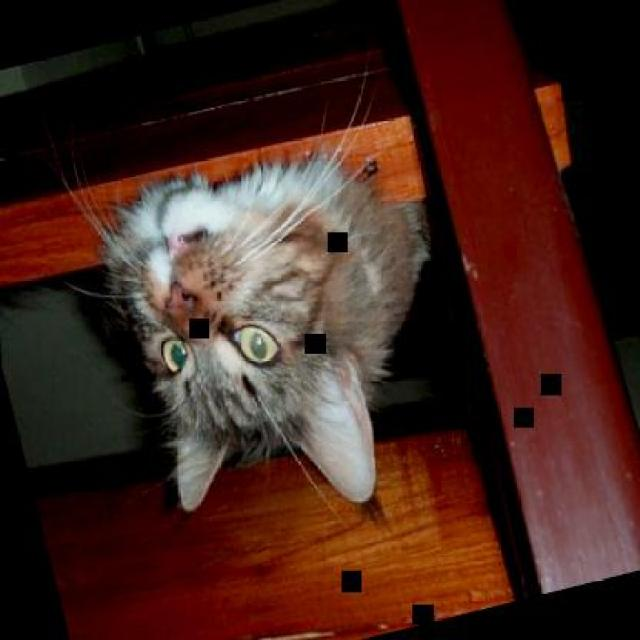cat: (87, 124, 482, 558)
